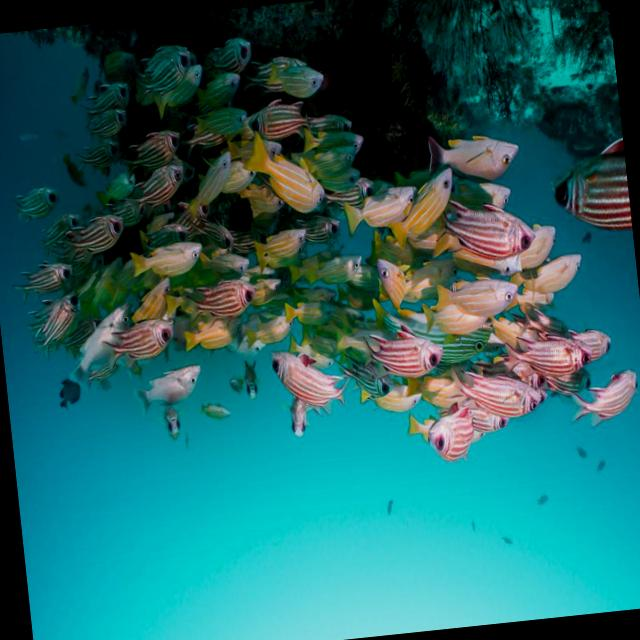Asker Baligi: (452, 356, 545, 429), (255, 350, 352, 410), (544, 148, 630, 214), (580, 351, 640, 443), (446, 204, 536, 264), (501, 318, 594, 376), (416, 404, 490, 459), (28, 284, 82, 354), (136, 34, 192, 100), (110, 310, 178, 363), (16, 250, 78, 308), (369, 330, 443, 376), (5, 172, 62, 230), (247, 90, 305, 140), (88, 68, 136, 126), (70, 207, 119, 261), (134, 157, 184, 208), (196, 276, 261, 314)
